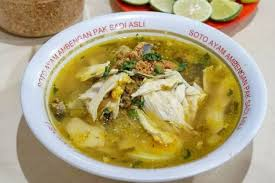soto: (40, 30, 256, 174)
